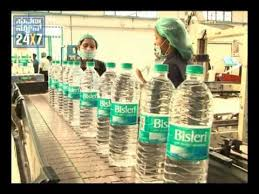Bisleri: (169, 126, 206, 153), (142, 115, 166, 137), (114, 106, 138, 124), (96, 98, 111, 116), (80, 92, 97, 105), (69, 87, 80, 100), (61, 83, 70, 98), (53, 80, 60, 89)
plastic: (171, 77, 210, 184)
